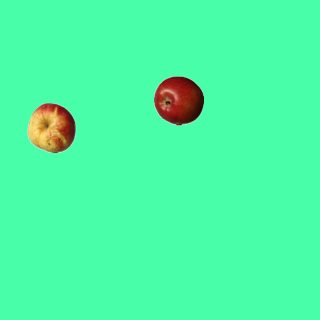Apple Braeburn: (153, 75, 203, 125)
Apple Red Yellow 1: (26, 102, 76, 152)
